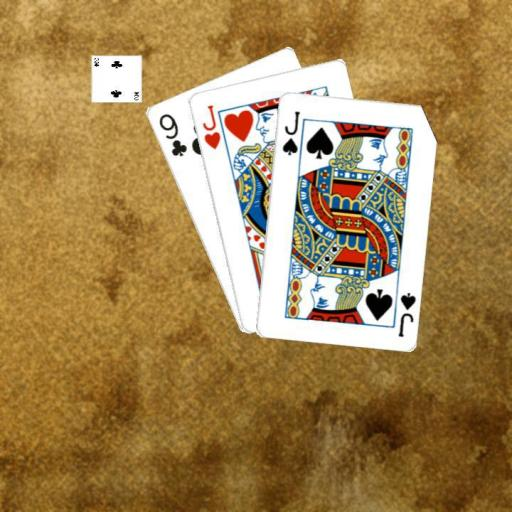9C: (155, 110, 188, 159)
JH: (198, 101, 222, 151)
JS: (279, 108, 301, 157), (395, 289, 417, 338)
